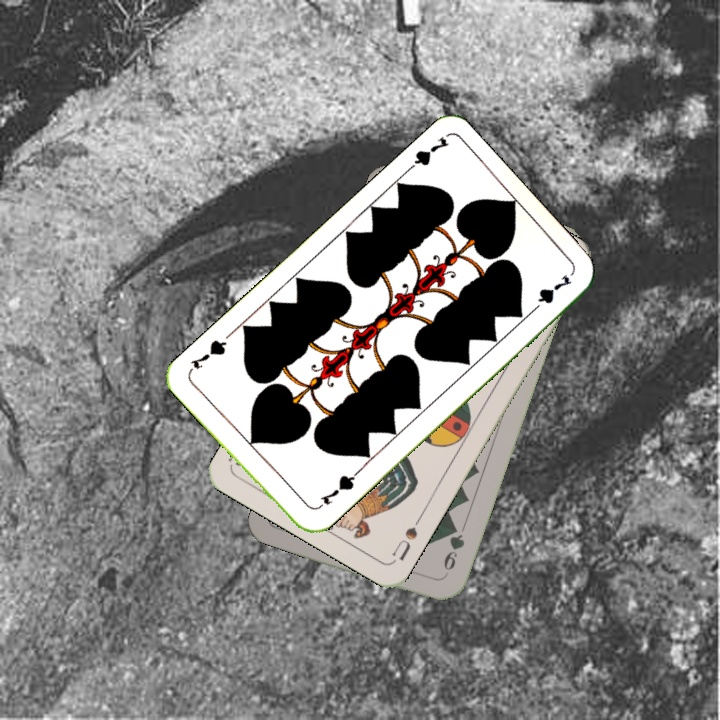G7: (399, 132, 452, 178), (312, 468, 360, 513)
G9: (439, 520, 467, 580)
SU: (387, 510, 425, 564)
